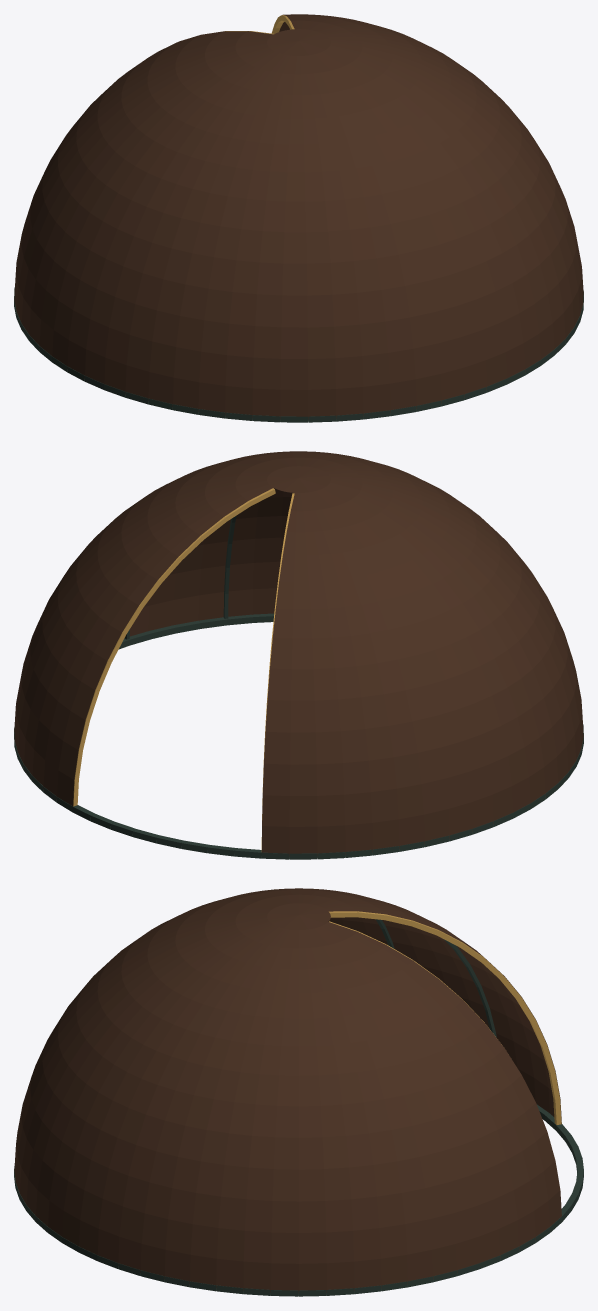
The model's file is observatory_dome.glb.
3 renders of one model, top to bottom at view 1: azimuth 30°, elevation 25°; view 2: azimuth 150°, elevation 25°; view 3: azimuth 270°, elevation 25°, orthographic.
Parts seen in each view (by area): view 1: observatory_dome; view 2: observatory_dome; view 3: observatory_dome.
Boxes of the visible parts, x1=… form: observatory_dome: x1=14, y1=14, x2=583, y2=422; observatory_dome: x1=14, y1=451, x2=583, y2=859; observatory_dome: x1=14, y1=888, x2=583, y2=1296.
Size of the model in its own units: 28.02 by 14.16 by 28.02.
